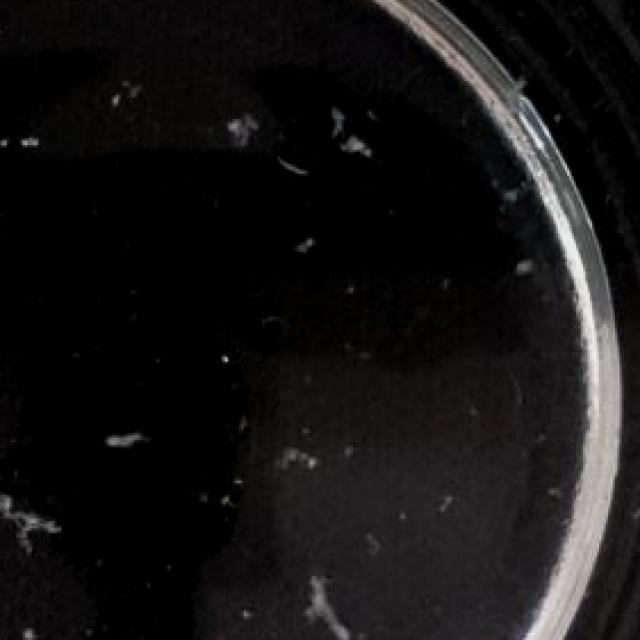Microplastic: (305, 554, 369, 640), (0, 466, 59, 550), (487, 138, 542, 207), (89, 416, 157, 466), (271, 424, 321, 490), (337, 119, 396, 174), (503, 233, 558, 290), (280, 205, 326, 271), (226, 107, 266, 145)
